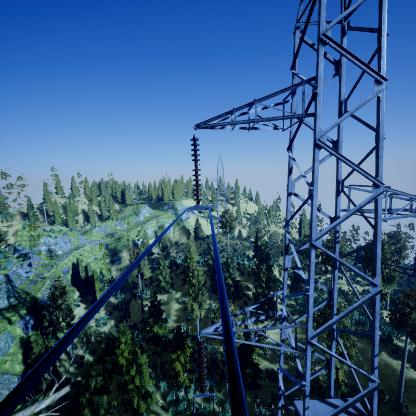insulator: (190, 134, 204, 207)
